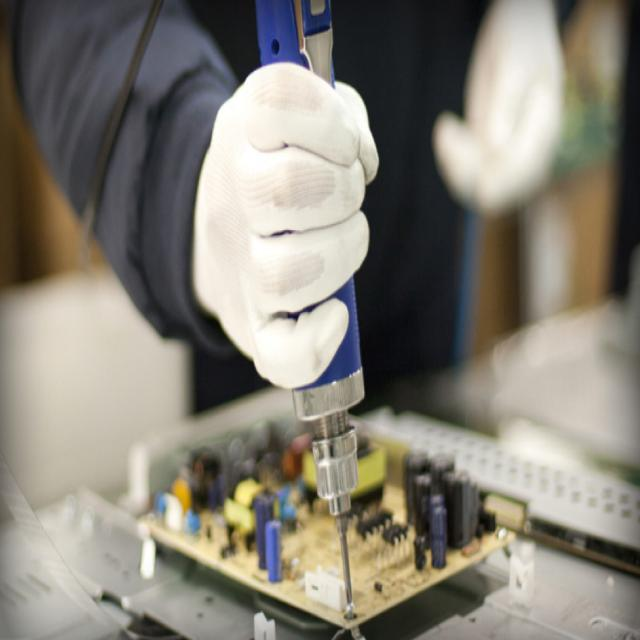gloves: (189, 58, 380, 384)
